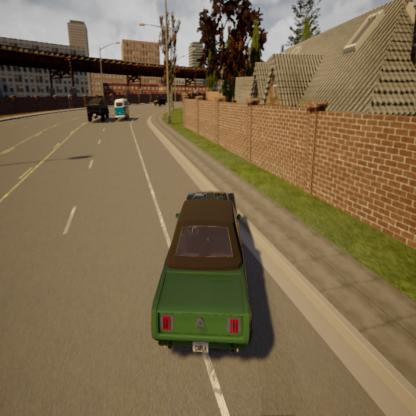Cars: (144, 168, 260, 374), (84, 89, 111, 128), (112, 93, 135, 123), (151, 86, 170, 113)
